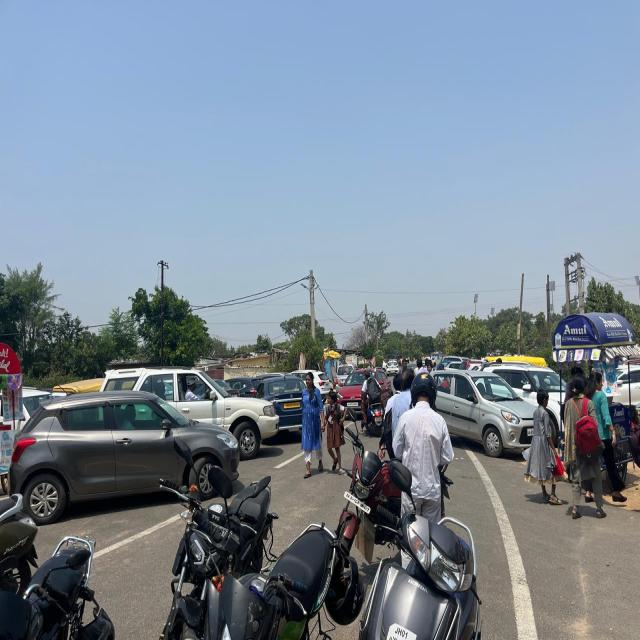bike: (353, 458, 480, 640), (163, 460, 277, 640), (219, 521, 337, 640), (334, 432, 408, 594), (0, 536, 114, 640)
car: (2, 383, 250, 509), (95, 359, 277, 470), (418, 364, 538, 461), (234, 367, 318, 447), (508, 354, 572, 406), (340, 367, 392, 425), (616, 362, 640, 410), (301, 368, 331, 395), (335, 362, 354, 387), (387, 360, 400, 380)
